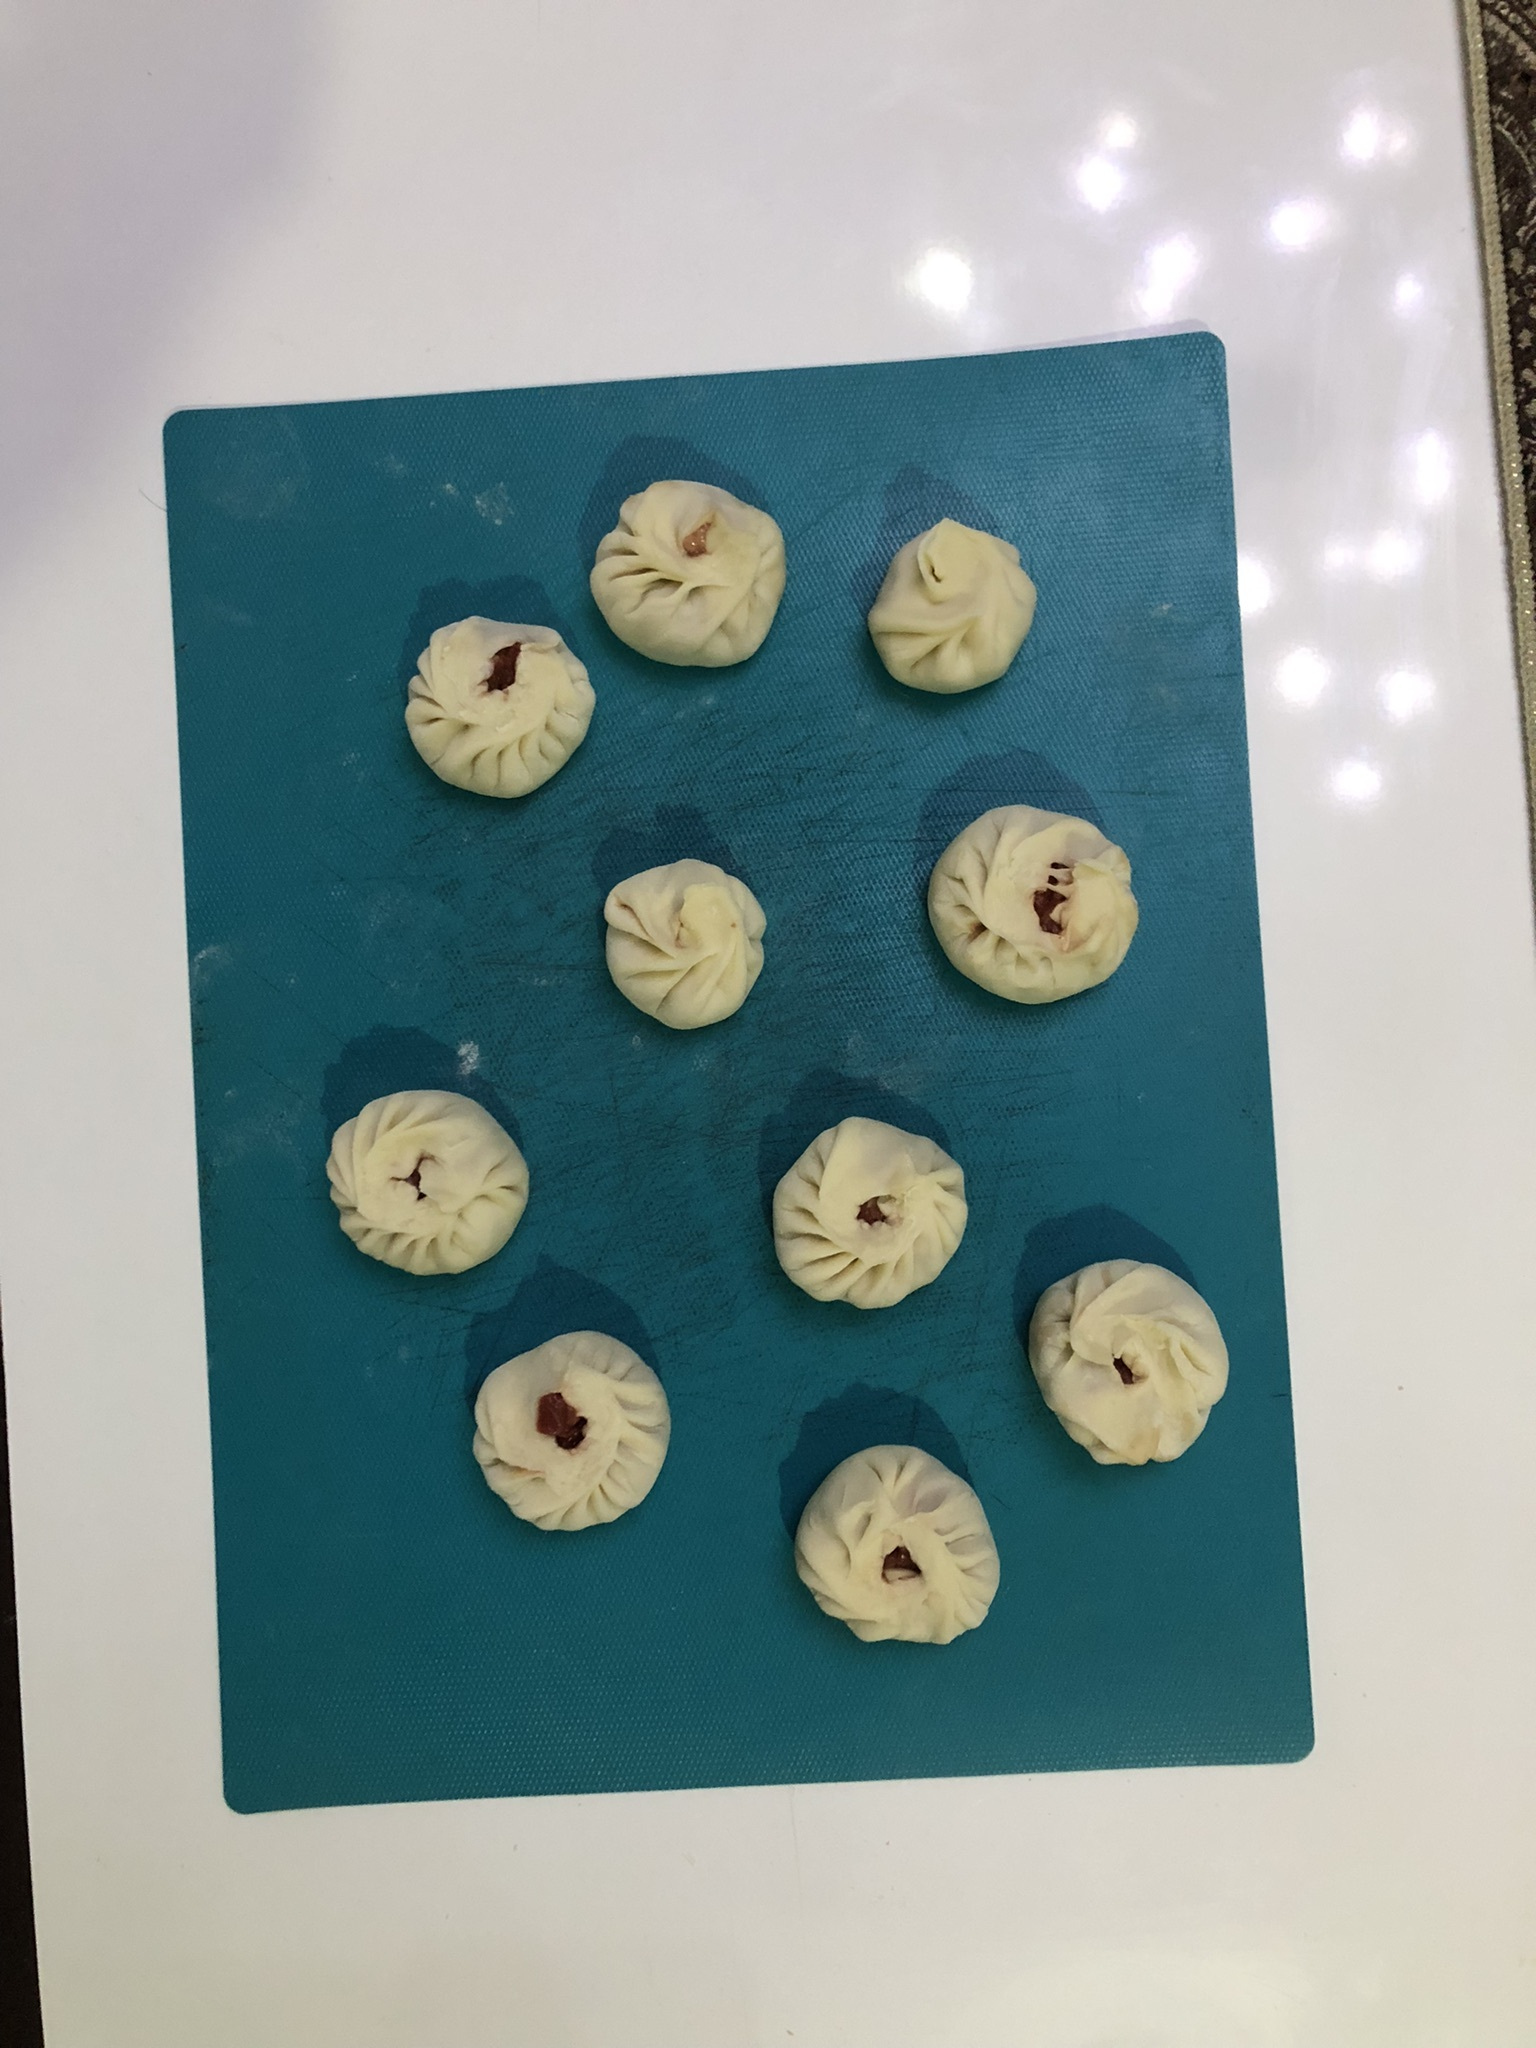buuz: (916, 797, 1150, 1019), (579, 464, 800, 689), (1016, 1247, 1238, 1471), (784, 1432, 1007, 1651), (758, 1105, 979, 1322), (465, 1321, 681, 1543), (316, 1080, 536, 1284), (395, 605, 607, 810), (855, 510, 1042, 706), (591, 847, 779, 1039)
